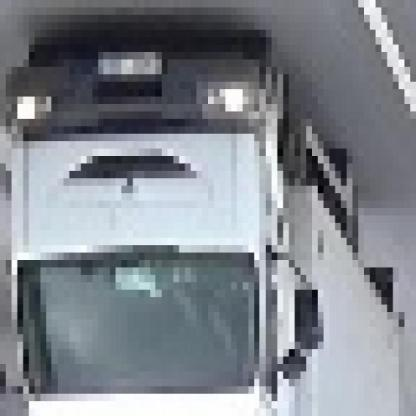truck: (7, 53, 416, 416)
